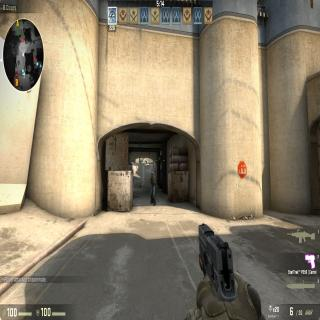T-Body: (150, 170, 156, 206)
T-Head: (151, 171, 154, 177)
